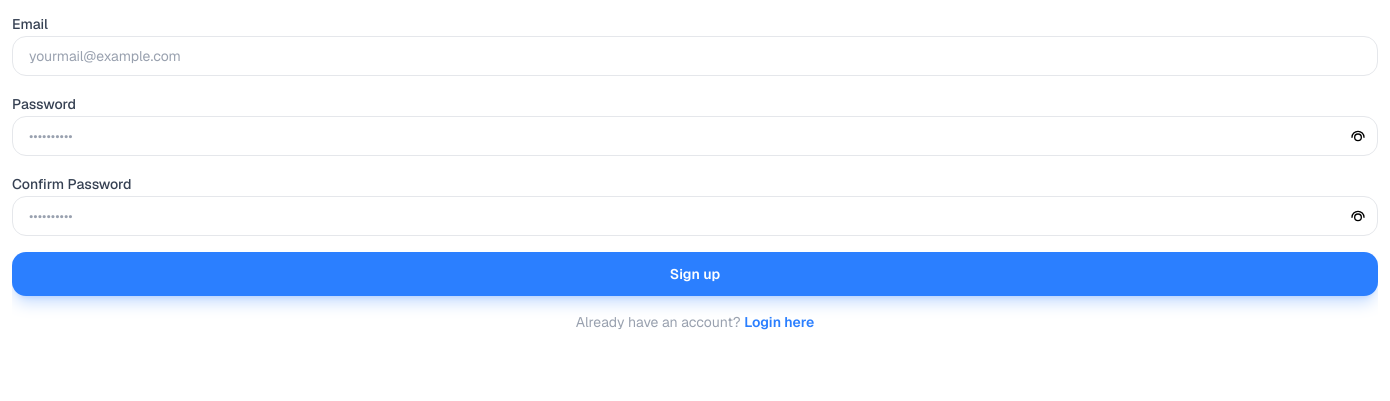
RegisterForm — Unit Tests › TC-REG-03: shows error when passwords do not match
Type "test@test.com" into the field labelled "Email" at (695, 56), box [12, 36, 1378, 76]
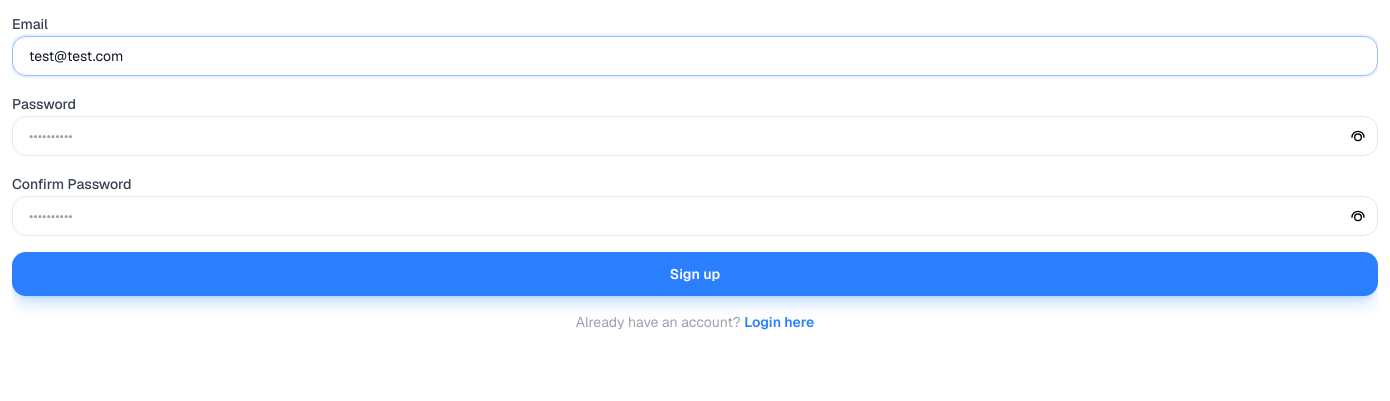
Type "Password1!" into the password field labelled "Password" at (695, 136), box [12, 116, 1378, 156]
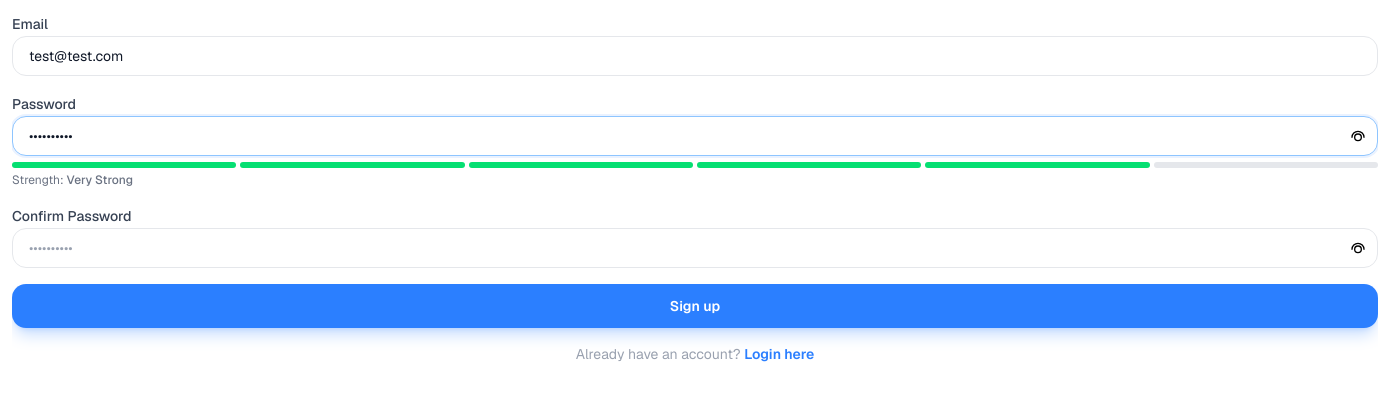
Type "Different1!" into the password field labelled "Confirm Password" at (695, 248), box [12, 228, 1378, 268]
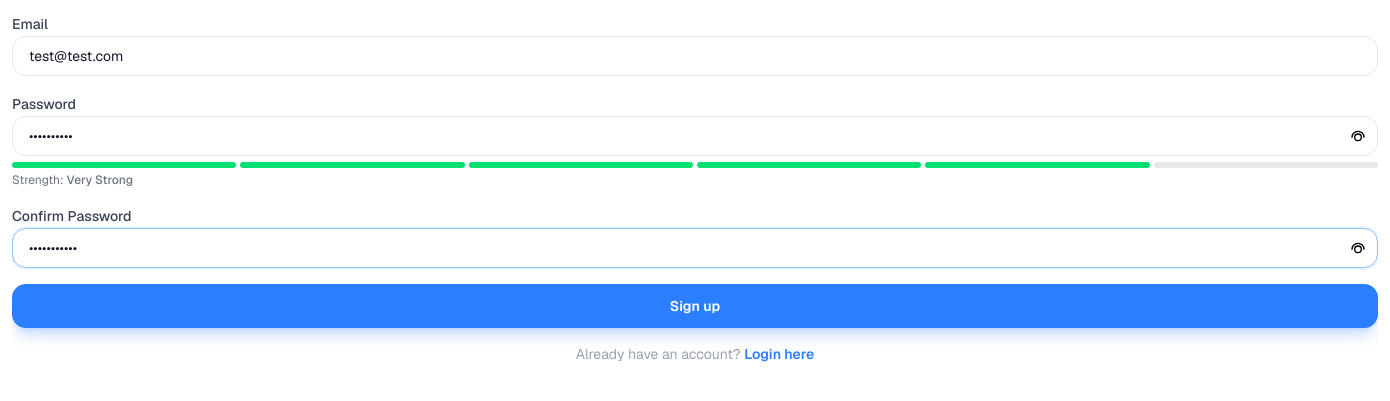
Click the button "Sign up" at (695, 306), box [12, 284, 1378, 328]
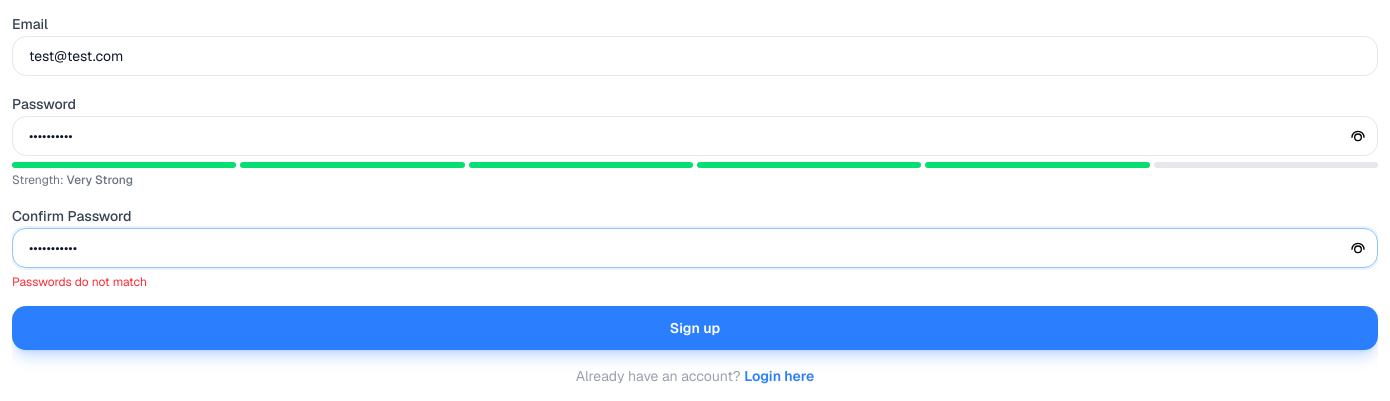
Expected: the text "Passwords do not match" is shown, [12, 274, 147, 290]
